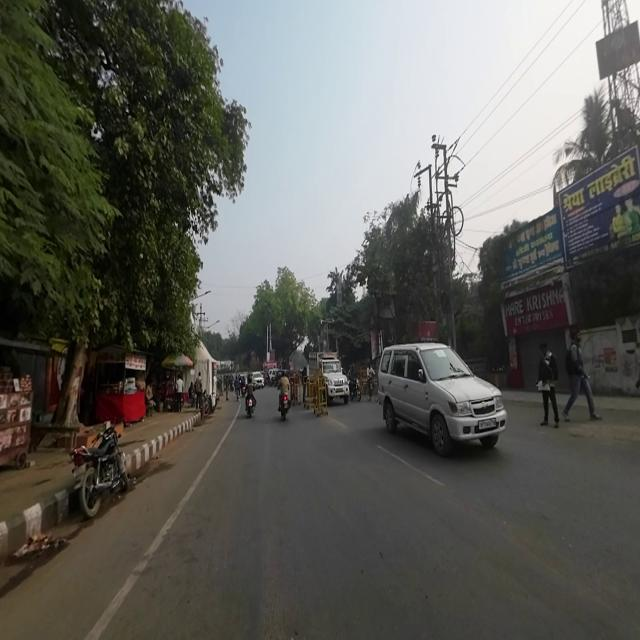Garbage: (15, 530, 57, 560)
